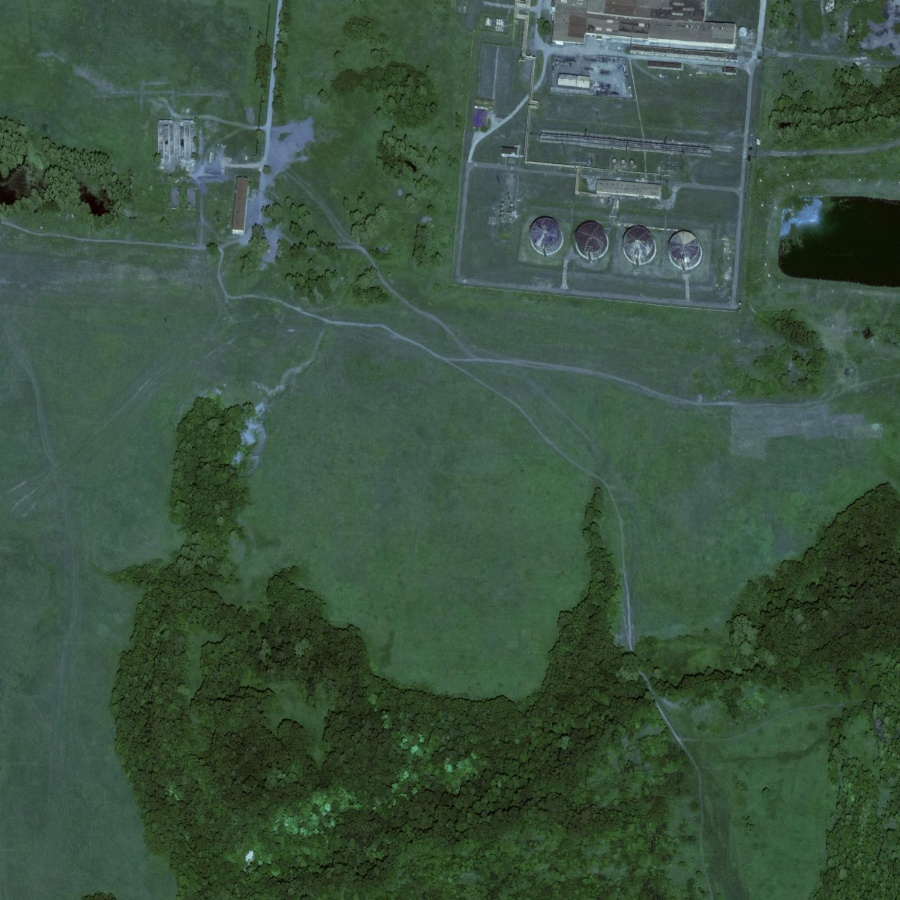PowerPlant: (523, 165, 734, 331)
